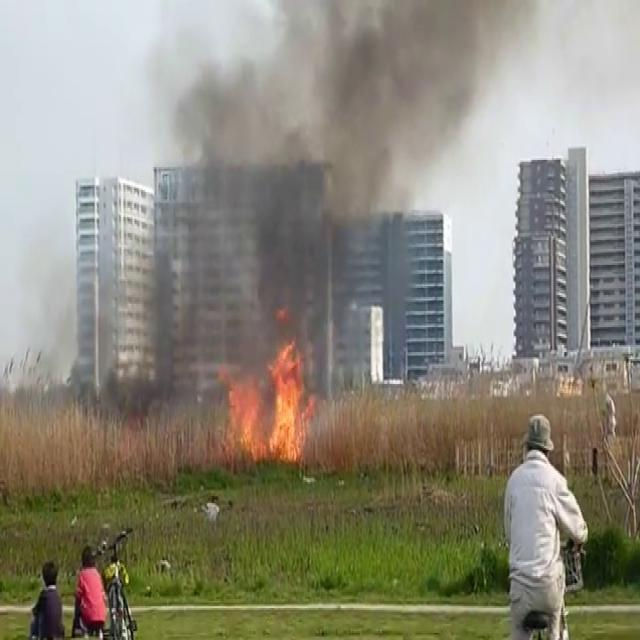Fire: (217, 320, 315, 470)
Smoke: (142, 0, 440, 439)
